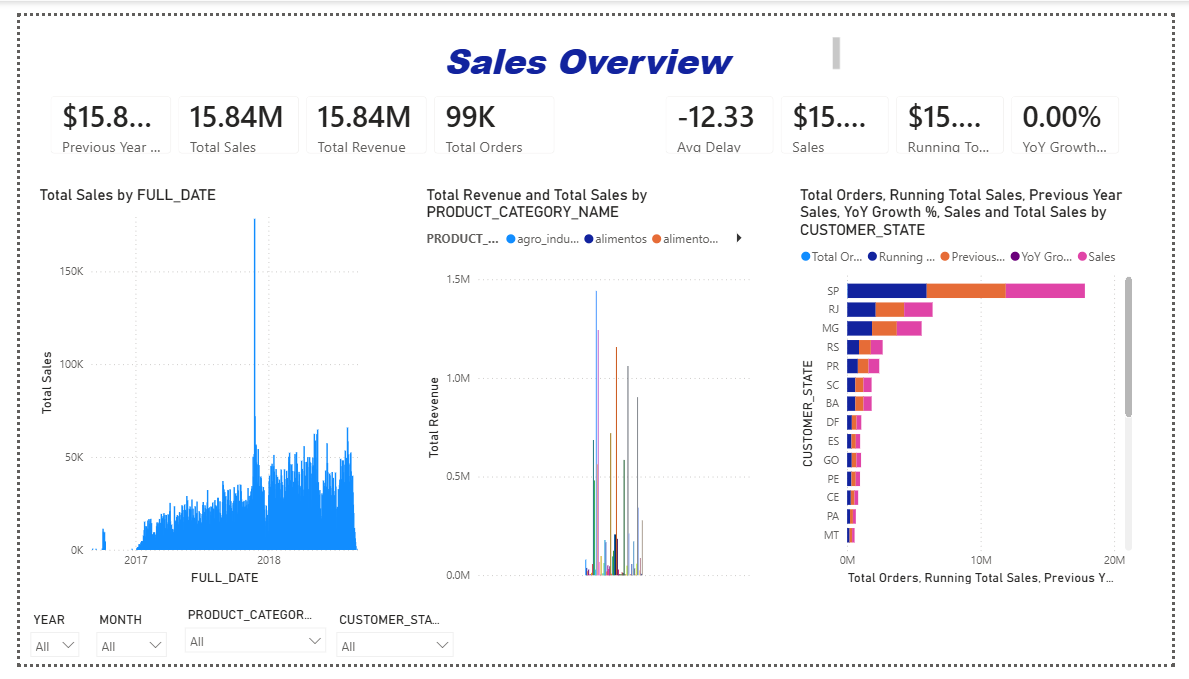

The page's visual inventory and layout, read from the dashboard file:
{"tool":"powerbi","page":{"name":"Page 1","canvas":[1280,720],"ordinal":0},"visuals":[{"type":"cardVisual","fields":{"Data":["MEASURES (2).Previous Year Sales","MEASURES (2).Total Sales","MEASURES (2).Total Revenue","MEASURES (2).Total Orders"]},"box":[16.5,71.4,594.2,98.8],"z":0},{"type":"lineStackedColumnComboChart","fields":{"Y":["MEASURES (2).Total Sales"],"Category":["DIM_DATE.FULL_DATE"]},"box":[16.5,188,377.4,447.4],"z":1000},{"type":"lineClusteredColumnComboChart","fields":{"Series":["DIM_PRODUCT.PRODUCT_CATEGORY_NAME"],"Y":["MEASURES (2).Total Revenue"]},"box":[446.7,188.3,371.7,446.7],"z":2000},{"type":"cardVisual","fields":{"Data":["MEASURES (2).Avg Delay","MEASURES (2).Sales","MEASURES (2).Running Total Sales","MEASURES (2).YoY Growth %"]},"box":[699.9,71.4,540.7,98.8],"z":3000},{"type":"barChart","fields":{"Category":["DIM_CUSTOMER.CUSTOMER_STATE"],"Y":["MEASURES (2).Total Orders","MEASURES (2).Running Total Sales","MEASURES (2).Previous Year Sales","MEASURES (2).YoY Growth %","MEASURES (2).Sales"]},"box":[861.7,188.3,418.3,468.3],"z":4000},{"type":"textbox","box":[351.3,17.8,564,53.5],"z":5000},{"type":"slicer","fields":{"Values":["DIM_PRODUCT.PRODUCT_CATEGORY_NAME"]},"box":[173.7,652.1,176.8,67.9],"z":6000},{"type":"slicer","fields":{"Values":["DIM_CUSTOMER.CUSTOMER_STATE"]},"box":[341.1,656.9,150,63.2],"z":7000},{"type":"slicer","fields":{"Values":["DIM_DATE.MONTH"]},"box":[75.8,656.9,97.9,56.8],"z":8000},{"type":"slicer","fields":{"Values":["DIM_DATE.YEAR"]},"box":[1.6,656.9,74.2,63.2],"z":9000}]}

Visuals, with their boxes in screenshot pixels (x1, y1, x2, y2), scaled from the page's 1280x720 canvas onto the 1189x679 screenshot:
cardVisual - MEASURES (2).Previous Year Sales x MEASURES (2).Total Sales: {"left": 15, "top": 67, "right": 567, "bottom": 161}
lineStackedColumnComboChart - MEASURES (2).Total Sales x DIM_DATE.FULL_DATE: {"left": 15, "top": 177, "right": 366, "bottom": 599}
lineClusteredColumnComboChart - DIM_PRODUCT.PRODUCT_CATEGORY_NAME x MEASURES (2).Total Revenue: {"left": 415, "top": 178, "right": 760, "bottom": 599}
cardVisual - MEASURES (2).Avg Delay x MEASURES (2).Sales: {"left": 650, "top": 67, "right": 1152, "bottom": 161}
barChart - DIM_CUSTOMER.CUSTOMER_STATE x MEASURES (2).Total Orders: {"left": 800, "top": 178, "right": 1188, "bottom": 619}
textbox: {"left": 326, "top": 17, "right": 850, "bottom": 67}
slicer - DIM_PRODUCT.PRODUCT_CATEGORY_NAME: {"left": 161, "top": 615, "right": 326, "bottom": 678}
slicer - DIM_CUSTOMER.CUSTOMER_STATE: {"left": 317, "top": 619, "right": 456, "bottom": 678}
slicer - DIM_DATE.MONTH: {"left": 70, "top": 619, "right": 161, "bottom": 673}
slicer - DIM_DATE.YEAR: {"left": 1, "top": 619, "right": 70, "bottom": 678}
